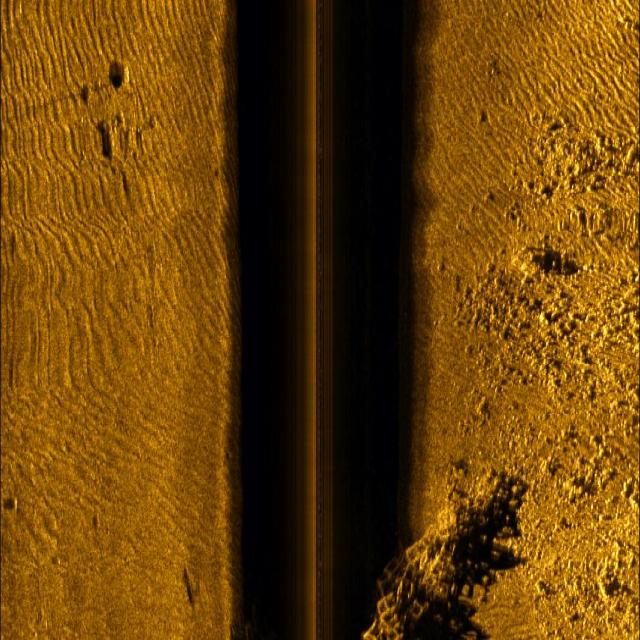artificial reef: (356, 472, 524, 640), (237, 607, 268, 640)
